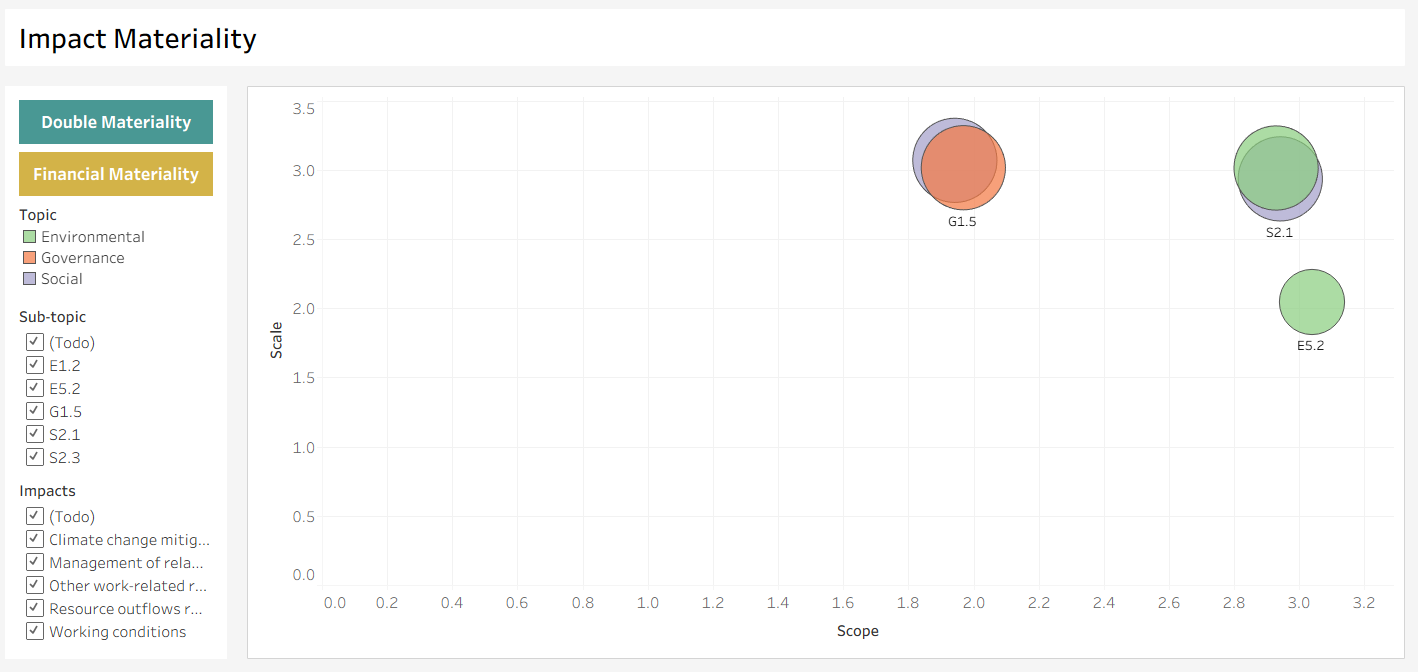

What the dashboard file says about the page in this screenshot:
{"tool":"tableau","page":{"name":"Impact M","canvas":[1420,670],"ordinal":2},"visuals":[{"type":"text","box":[0,0,1420,77.5]},{"type":"worksheet","title":"Impact Materiality","mark":"Circle","rows":["Calculation_0594025357393921"],"cols":["Calculation_0594025357250560"],"box":[241.7,77.5,1178.3,592.5]},{"type":"dashboard-object","box":[20,97.5,201.7,52]},{"type":"dashboard-object","box":[20,149.5,201.7,52]},{"type":"legend","title":"Impact Materiality","param":"[federated.168zm8c13as4ti16oj61m0ww0z5f].[none:Topic:nk]","box":[20,201.5,201.7,102]},{"type":"filter","title":"Impact Materiality","param":"[federated.168zm8c13as4ti16oj61m0ww0z5f].[none:Sub-topic:nk]","box":[20,303.5,201.7,173.3]},{"type":"filter","title":"Impact Materiality","param":"[federated.168zm8c13as4ti16oj61m0ww0z5f].[none:Impacts:nk]","box":[20,476.7,201.7,173.3]}]}

Visuals, with their boxes in screenshot pixels (x1, y1, x2, y2), scaled from the page's 1420x670 canvas onto the 1418x672 screenshot:
text: (0,0,1417,78)
"Impact Materiality" worksheet (Circle marks): (241,78,1417,671)
dashboard-object: (20,98,221,150)
dashboard-object: (20,150,221,202)
"Impact Materiality" legend: (20,202,221,304)
"Impact Materiality" filter: (20,304,221,478)
"Impact Materiality" filter: (20,478,221,652)
